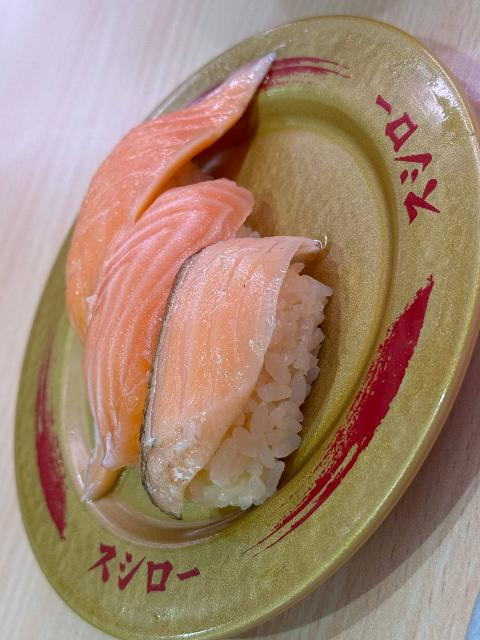jangold: (35, 28, 459, 611)
